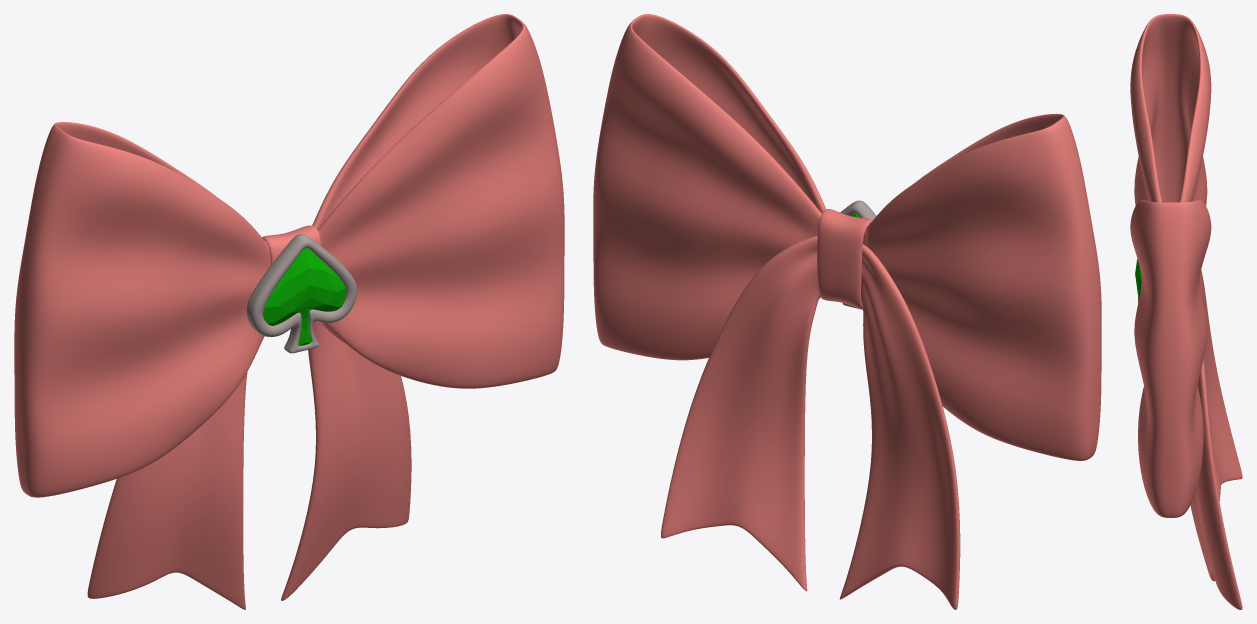
The model's file is hair_bow_for_neddy.glb.
3 renders of one model, left to right at view 1: azimuth 30°, elevation 25°; view 2: azimuth 150°, elevation 25°; view 3: azimuth 270°, elevation 25°, orthographic. The views are drawn at different scales.
Parts seen in each view (by area): view 1: Main part, Laces, Spades frame, Heart, Middle wrap; view 2: Main part, Laces, Middle wrap; view 3: Main part, Laces, Heart.
Part boxes in pixels (box(x1,y1,x2,y2)): Main part: box(14, 14, 564, 497); Laces: box(87, 321, 411, 609); Spades frame: box(246, 234, 356, 353); Heart: box(263, 248, 346, 345); Middle wrap: box(262, 225, 321, 321); Main part: box(593, 14, 1101, 460); Laces: box(661, 235, 960, 609); Middle wrap: box(817, 209, 872, 309); Main part: box(1130, 14, 1211, 517); Laces: box(1190, 270, 1242, 609); Heart: box(1135, 259, 1141, 300).
Size of the model in its own units: 0.7673 by 0.7465 by 0.163.
